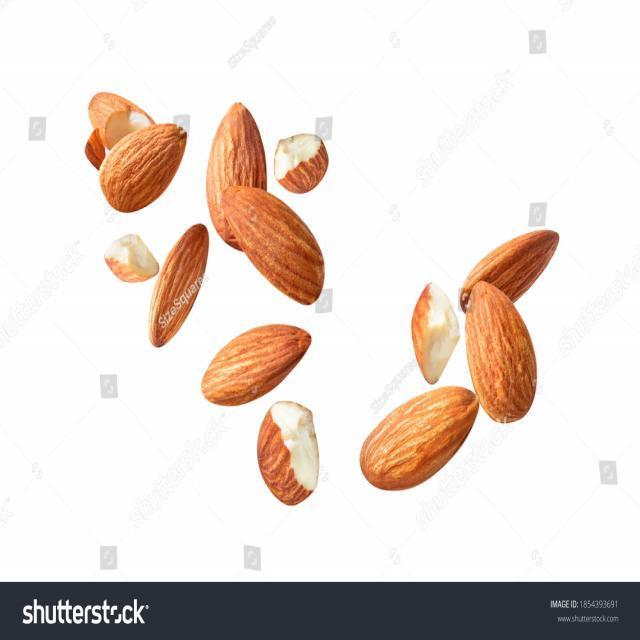almond: (220, 178, 325, 310), (360, 382, 480, 492), (465, 280, 542, 425), (207, 98, 270, 255), (199, 320, 314, 405), (457, 225, 562, 312), (98, 120, 192, 213), (145, 219, 208, 349)
